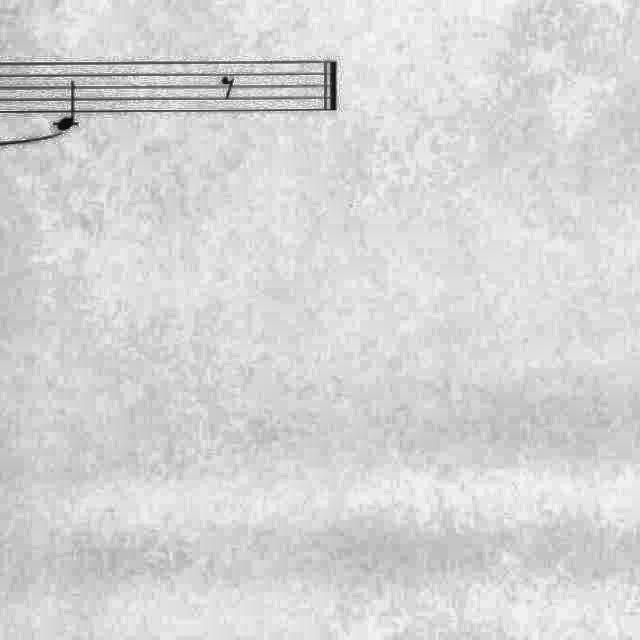Eighth-rest: (216, 69, 240, 105)
Quarter-note: (49, 78, 86, 134)
